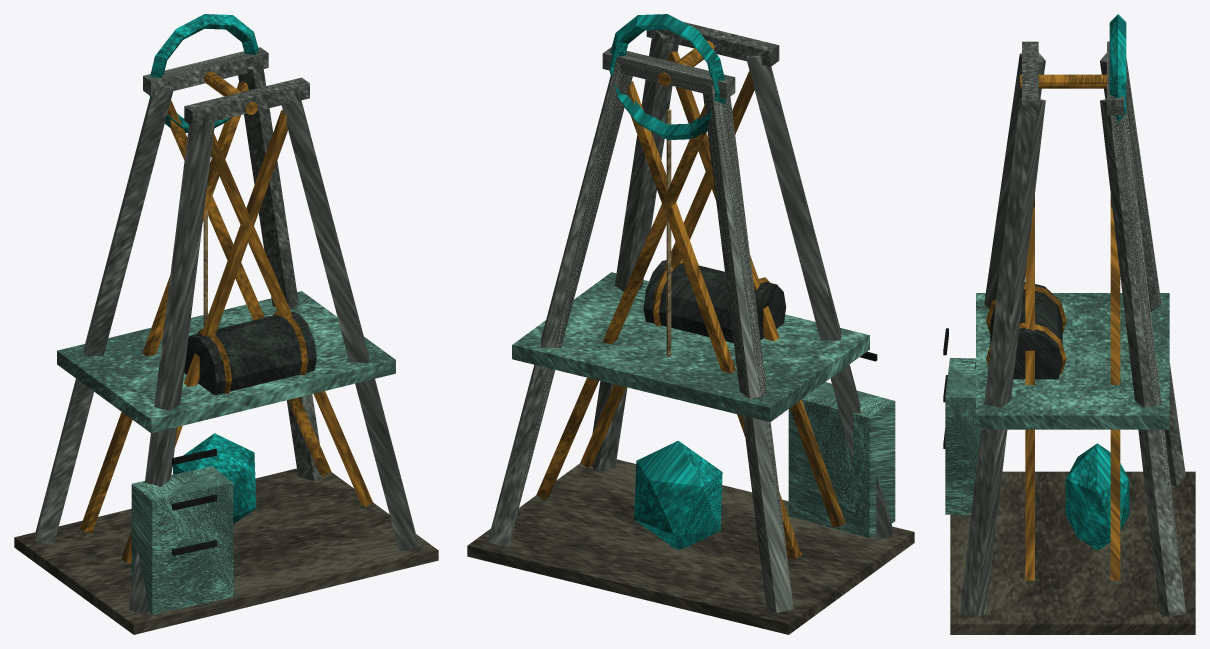
File: mesa-starstone-derrick.glb
3 views of the same model, side by side, from view 1: azimuth 30°, elevation 25°; view 2: azimuth 150°, elevation 25°; view 3: azimuth 270°, elevation 25° (orthographic). The views are drawn at different scales.
Visible parts, largest first — view 1: mesa-starstone-derrick; view 2: mesa-starstone-derrick; view 3: mesa-starstone-derrick.
Part boxes in pixels (bbox=[...]): mesa-starstone-derrick: bbox=[14, 14, 438, 634]; mesa-starstone-derrick: bbox=[467, 14, 914, 634]; mesa-starstone-derrick: bbox=[943, 14, 1195, 634].
Size of the model in its own units: 5.6 by 9.2 by 3.9.
1 material, 1 textured.
